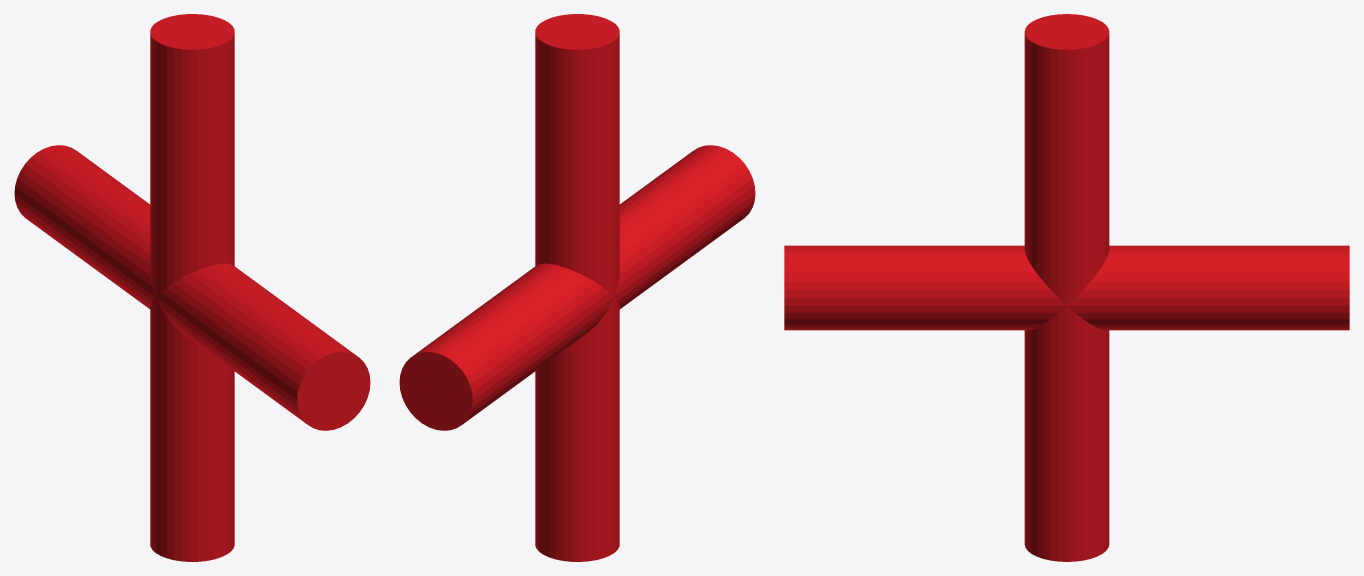
The model's file is Final Positive Sign 1.gltf.
3 renders of one model, left to right at view 1: azimuth 30°, elevation 25°; view 2: azimuth 150°, elevation 25°; view 3: azimuth 270°, elevation 25°, orthographic.
Parts seen in each view (by area): view 1: Cylinder.001; view 2: Cylinder.001; view 3: Cylinder.001.
Part boxes in pixels (x1,y1,x2,y2): Cylinder.001: (14,14,370,561); Cylinder.001: (399,14,755,561); Cylinder.001: (784,14,1349,561).
Size of the model in its own units: 0.3 by 2 by 2.
